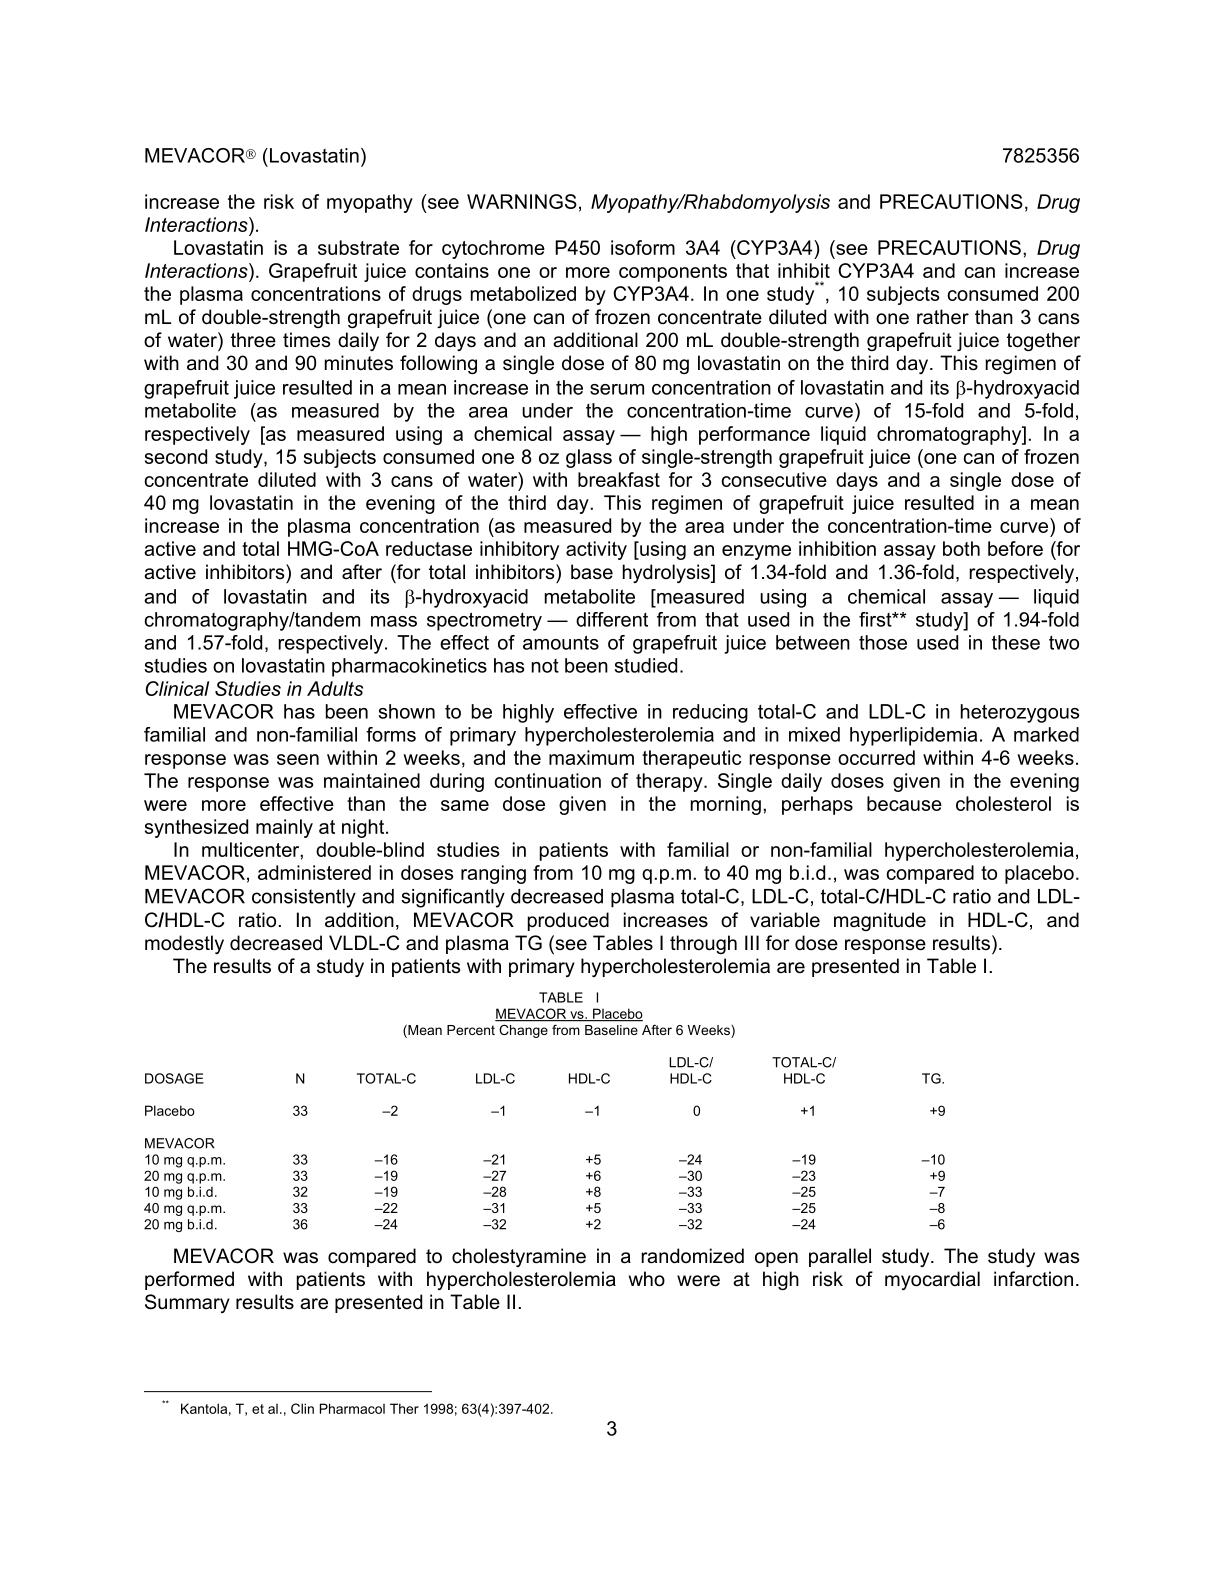nolines: (141, 1053, 951, 1236)
